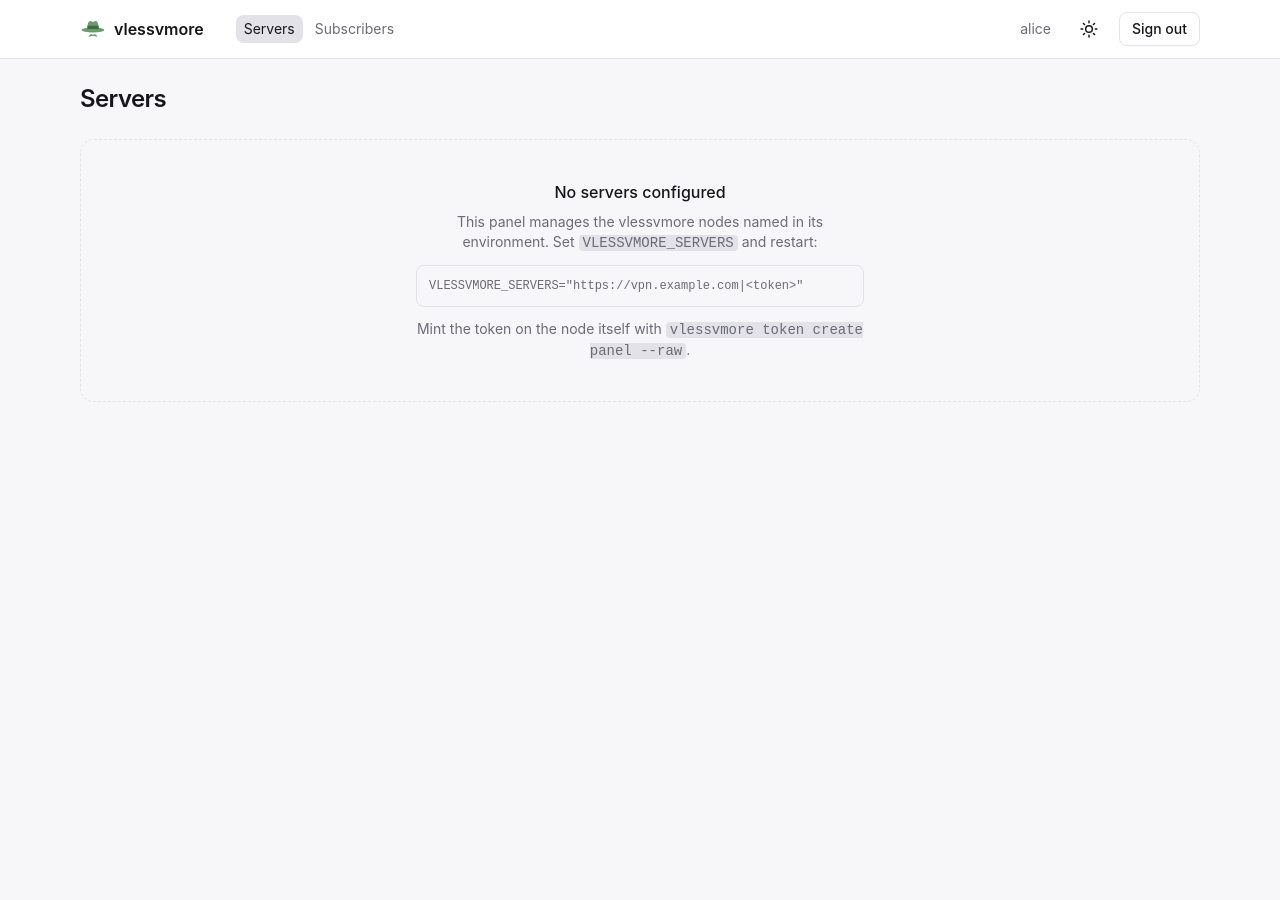
Test: the account link › takes the username in the header to /account
The image size is (1280, 900).
Click the link with aria-label "Your account, alice".
click(1036, 28)  # box [1020, 20, 1051, 37]
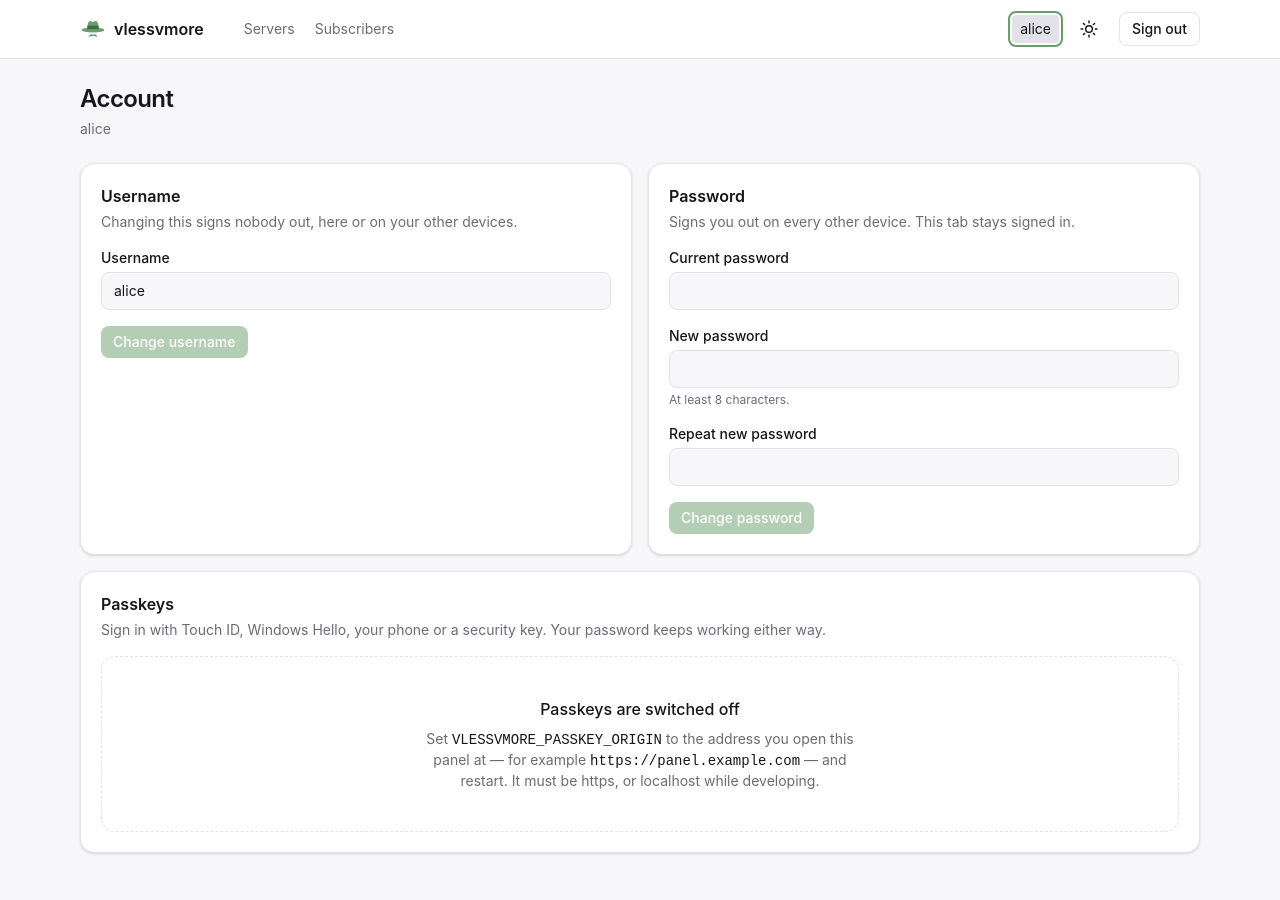
Now the heading "Account" is shown, box [80, 83, 173, 115]
Now the button "Change password" is shown, box [669, 502, 814, 534]
